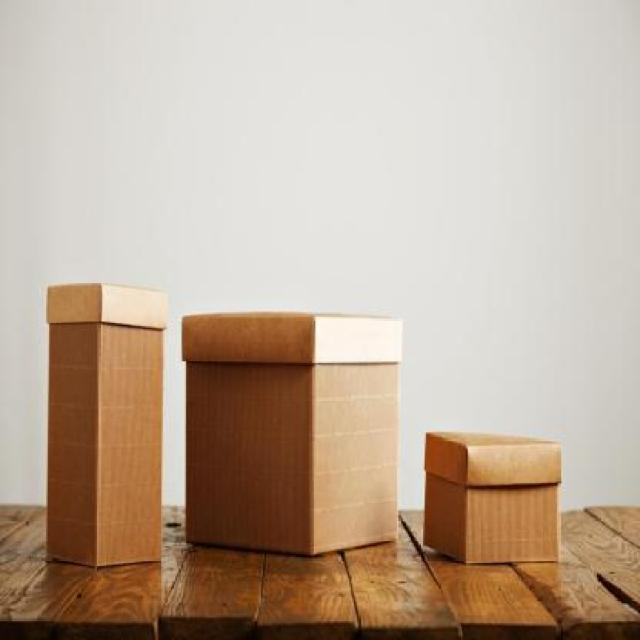BoxFace: (182, 314, 315, 558), (96, 286, 167, 565), (470, 443, 562, 563)
